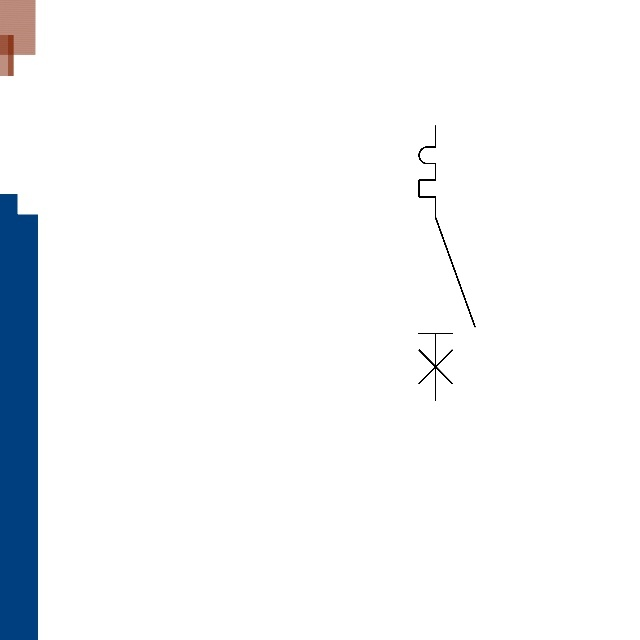interruptor_termomagnetico: (412, 119, 482, 407)
